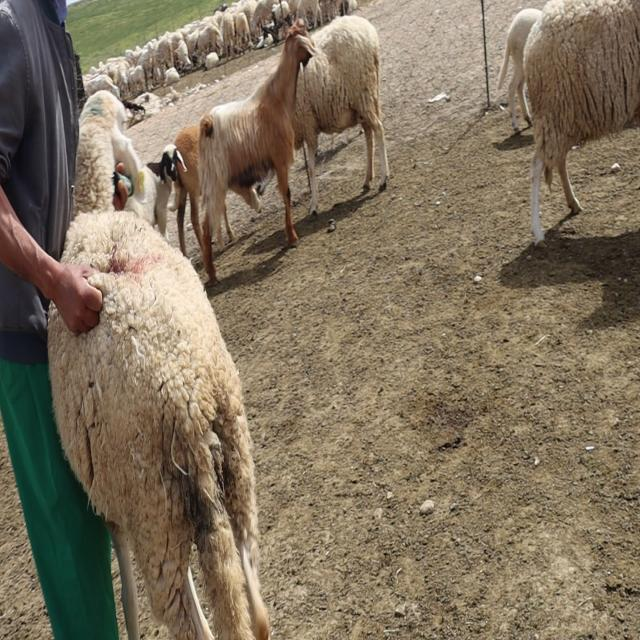Score_1: (48, 91, 270, 639)
